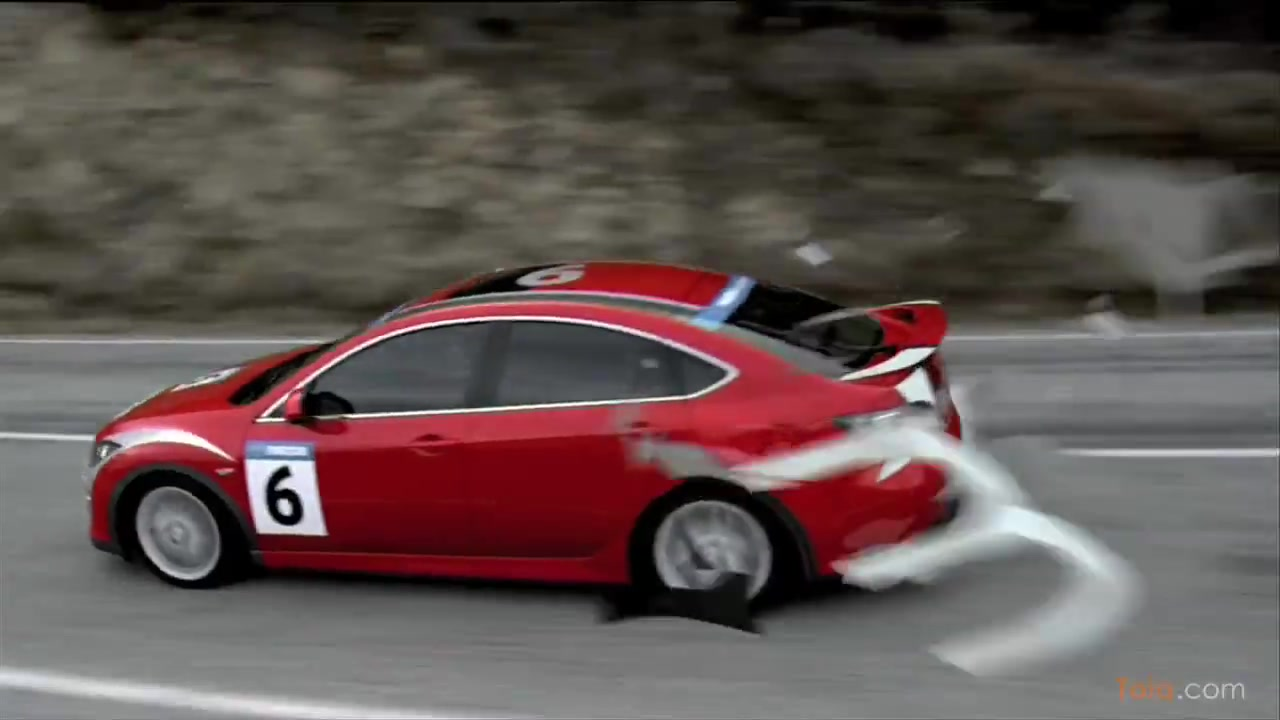car: (85, 257, 962, 621)
